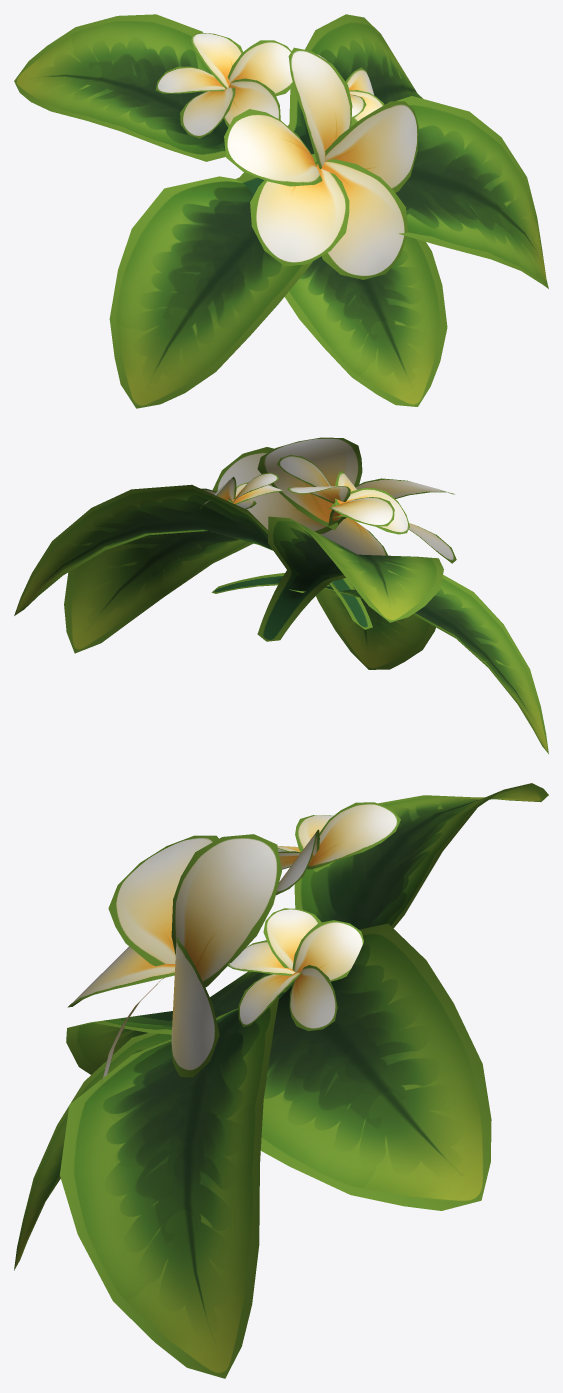
Rendered from Plumeria_2 1.fbx.
The picture shows the model from 3 angles, top to bottom: view 1: azimuth 30°, elevation 25°; view 2: azimuth 150°, elevation 25°; view 3: azimuth 270°, elevation 25°; orthographic projection. The views are drawn at different scales.
Parts seen in each view (by area): view 1: Object046, Object052, Object047, Object043, Object045, Object061, Object044, Object056; view 2: Object043, Object047, Object044, Object052, Object046, Object045, Object061, Object056; view 3: Object043, Object044, Object052, Object047, Object056, Object061, Object046, Object045.
Boxes of the visible parts, x1,y1,x2,y2 form: Object046: (109,176,312,408); Object052: (224,47,418,279); Object047: (14,14,227,161); Object043: (236,96,548,288); Object045: (285,236,447,406); Object061: (155,32,293,138); Object044: (237,14,422,182); Object056: (316,53,384,122); Object043: (64,531,372,653); Object047: (257,516,443,641); Object044: (14,484,348,615); Object052: (212,437,456,563); Object046: (211,573,548,753); Object045: (289,585,435,669); Object061: (277,455,409,534); Object056: (200,473,283,509); Object043: (59,989,288,1378); Object044: (260,923,491,1210); Object052: (67,834,281,1083); Object047: (294,783,548,929); Object056: (227,908,363,1030); Object061: (276,802,400,895); Object046: (66,971,294,1074); Object045: (14,1033,171,1270).
Bounding box in the file's own units: 2.2 × 1.43 × 1.69.
